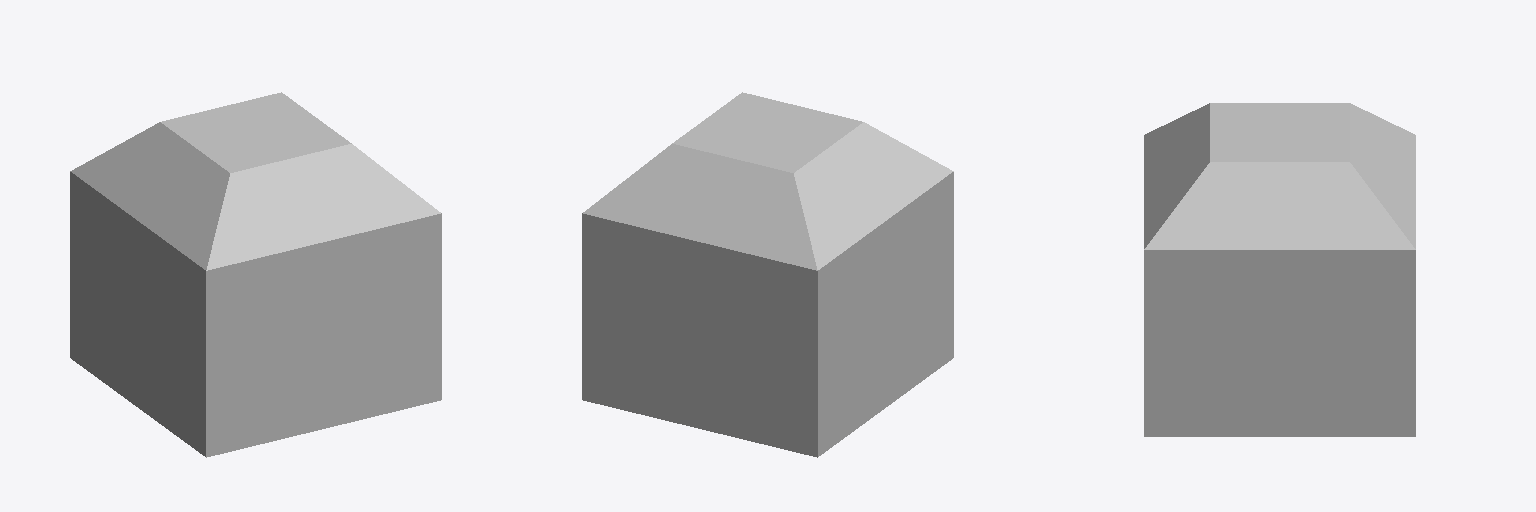
The model's file is testblockobj.obj.
3 views of the same model, side by side, from view 1: azimuth 30°, elevation 25°; view 2: azimuth 150°, elevation 25°; view 3: azimuth 270°, elevation 25° (orthographic).
Parts seen in each view (by area): view 1: Cube; view 2: Cube; view 3: Cube.
Boxes of the visible parts, x1=… form: Cube: x1=70, y1=92, x2=441, y2=457; Cube: x1=582, y1=92, x2=953, y2=457; Cube: x1=1144, y1=103, x2=1415, y2=436.
Size of the model in its own units: 2 by 2 by 2.